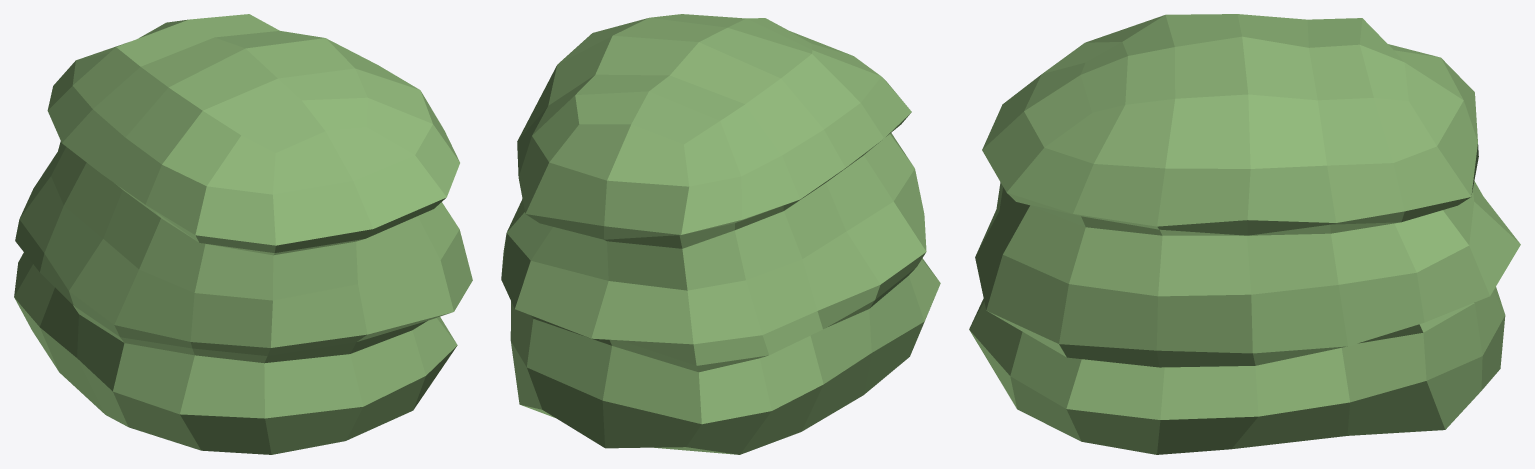
File: bush_1.glb
3 renders of one model, left to right at view 1: azimuth 30°, elevation 25°; view 2: azimuth 150°, elevation 25°; view 3: azimuth 270°, elevation 25°, orthographic. The views are drawn at different scales.
Visible parts, largest first — view 1: Bush_1; view 2: Bush_1; view 3: Bush_1.
Boxes of the visible parts, x1,y1,x2,y2 form: Bush_1: (14, 14, 472, 454); Bush_1: (501, 14, 940, 454); Bush_1: (969, 14, 1520, 454).
Size of the model in its own units: 1.33 by 1.24 by 1.69.
